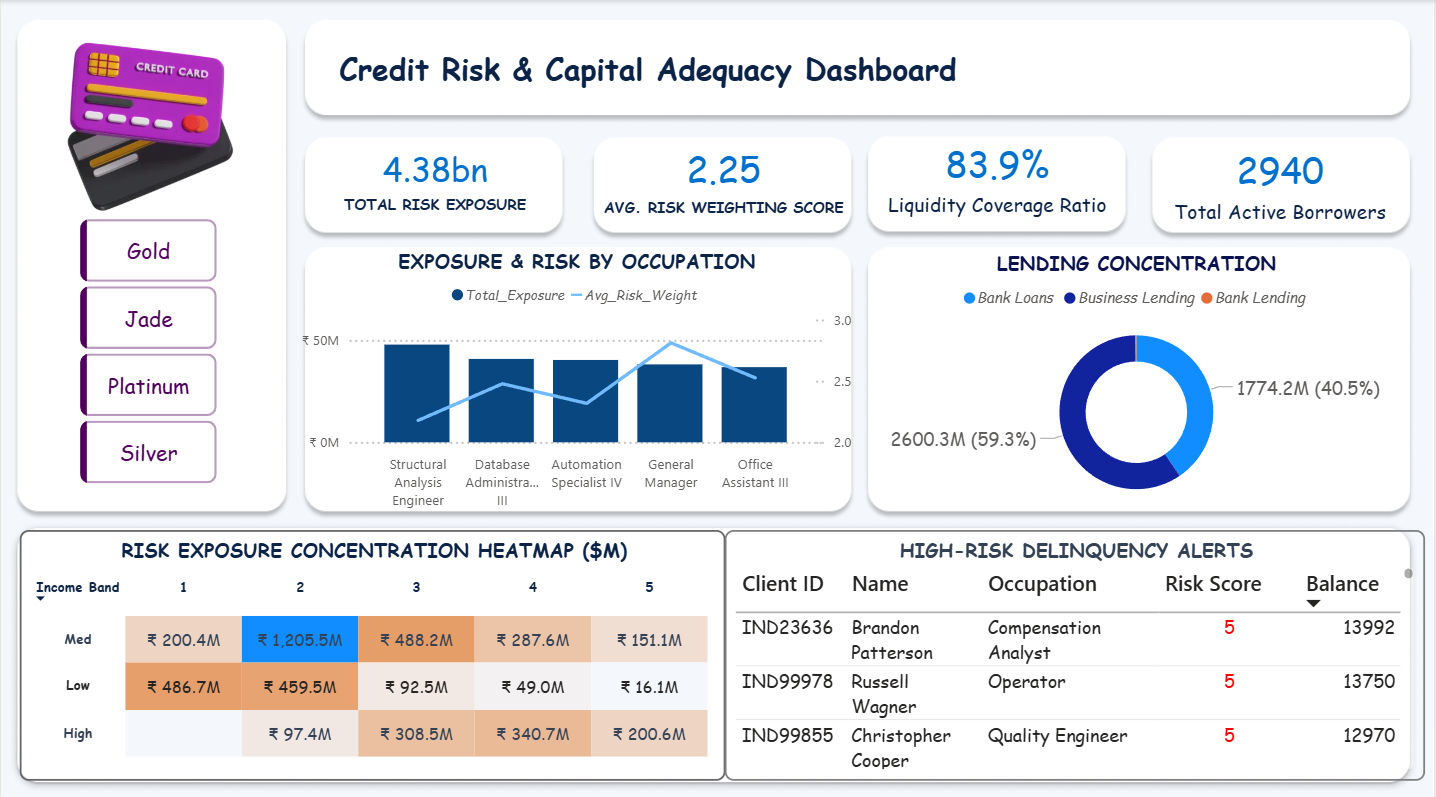

This screenshot's page, from the dashboard's own definition file:
{"tool":"powerbi","page":{"name":"Page 1","canvas":[1280,720],"ordinal":0},"visuals":[{"type":"textbox","box":[225.6,37.2,704.7,74.4],"z":0},{"type":"image","box":[0,23.3,264,176.7],"z":1000},{"type":"cardVisual","fields":{"Data":["customers.Total_Exposure"]},"box":[275.4,114.1,224.4,94.3],"z":2000},{"type":"cardVisual","fields":{"Data":["customers.Avg_Risk_Weight"]},"box":[527.2,114.2,237.7,94.3],"z":3000},{"type":"cardVisual","fields":{"Data":["customers.Liquidity Coverage Ratio (LCR Proxy)"]},"box":[771.6,99.6,237.7,120.9],"z":4000},{"type":"cardVisual","fields":{"Data":["customers.Total_Customers"]},"box":[1030.6,111.6,224.4,106.2],"z":5000},{"type":"lineStackedColumnComboChart","title":"EXPOSURE & RISK BY OCCUPATION","fields":{"Category":["customers.occupation"],"Y":["customers.Total_Exposure"],"Y2":["customers.Avg_Risk_Weight"]},"box":[263.1,220.3,501.8,242.3],"z":6000},{"type":"donutChart","title":"LENDING CONCENTRATION","fields":{"Y":["Sum(customers.bank_loans)","Sum(customers.business_lending)","Sum(customers.credit_card_balance)"]},"box":[772.3,222.8,483.5,238.7],"z":7000},{"type":"pivotTable","title":"RISK EXPOSURE CONCENTRATION HEATMAP ($M)","fields":{"Rows":["customers.income_band"],"Columns":["customers.risk_weighting"],"Values":["customers.Total_Exposure"]},"box":[17.1,473.7,630.3,224],"z":8000},{"type":"tableEx","title":"HIGH-RISK DELINQUENCY ALERTS","fields":{"Values":["customers.client_id","customers.name","customers.occupation","Sum(customers.risk_weighting)","Sum(customers.credit_card_balance)"]},"box":[646.2,473.7,625.4,224],"z":9000},{"type":"advancedSlicerVisual","fields":{"Values":["customers.loyalty_classification"]},"box":[66.1,190.9,132.2,248.5],"z":9001}]}

Visuals, with their boxes in screenshot pixels (x1, y1, x2, y2), scaled from the page's 1280x720 canvas onto the 1436x797 screenshot:
textbox: BBox(253, 41, 1044, 124)
image: BBox(0, 26, 296, 221)
cardVisual - customers.Total_Exposure: BBox(309, 126, 561, 231)
cardVisual - customers.Avg_Risk_Weight: BBox(591, 126, 858, 231)
cardVisual - customers.Liquidity Coverage Ratio (LCR Proxy): BBox(866, 110, 1132, 244)
cardVisual - customers.Total_Customers: BBox(1156, 124, 1408, 241)
"EXPOSURE & RISK BY OCCUPATION" lineStackedColumnComboChart: BBox(295, 244, 858, 512)
"LENDING CONCENTRATION" donutChart: BBox(866, 247, 1409, 511)
"RISK EXPOSURE CONCENTRATION HEATMAP ($M)" pivotTable: BBox(19, 524, 726, 772)
"HIGH-RISK DELINQUENCY ALERTS" tableEx: BBox(725, 524, 1427, 772)
advancedSlicerVisual - customers.loyalty_classification: BBox(74, 211, 222, 486)
